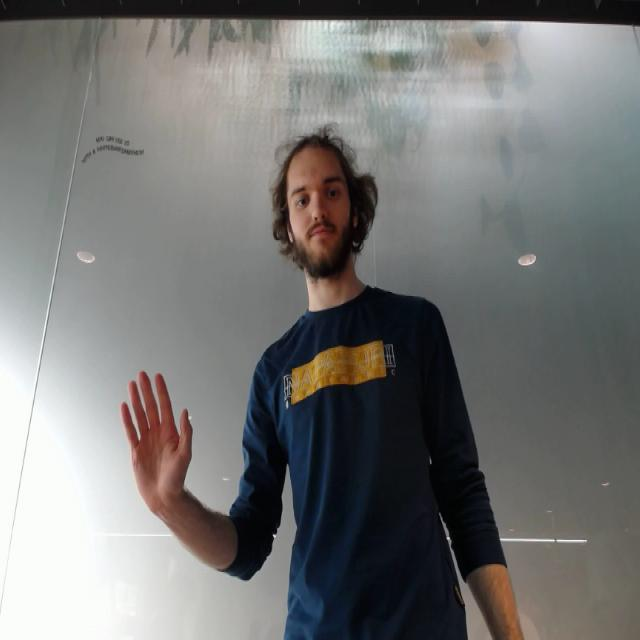backward: (117, 357, 199, 506)
